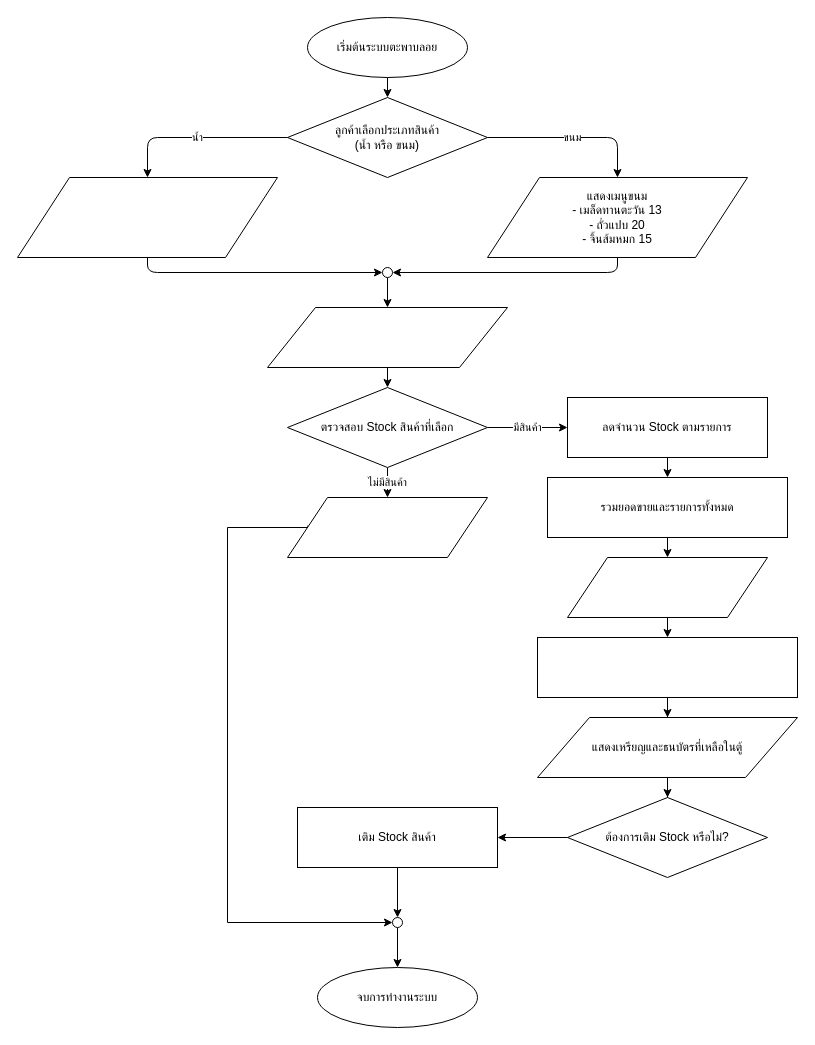
The diagram is 815 pixels wide and 1045 high, and some of its shapes have lost their labels. The shapes that lost their labels are listed below. From the top down, each one's box as (x1, y1, x2, y2) in pixels, then its label:
(16, 176, 278, 258): แสดงเมนูน้ำ - โค้ก 10 - น้ำเขียว 12 - อเมริกาโน่ 30 - ลาเต้ 35
(266, 306, 508, 368): ลูกค้าเลือกสินค้าย่อยและจำนวน
(286, 496, 488, 558): แจ้งว่า "สินค้าหมด"
(566, 556, 768, 618): ลูกค้าชำระเงิน
(536, 636, 798, 698): คำนวณเงินทอนและอัปเดตยอดเงินในตู้
